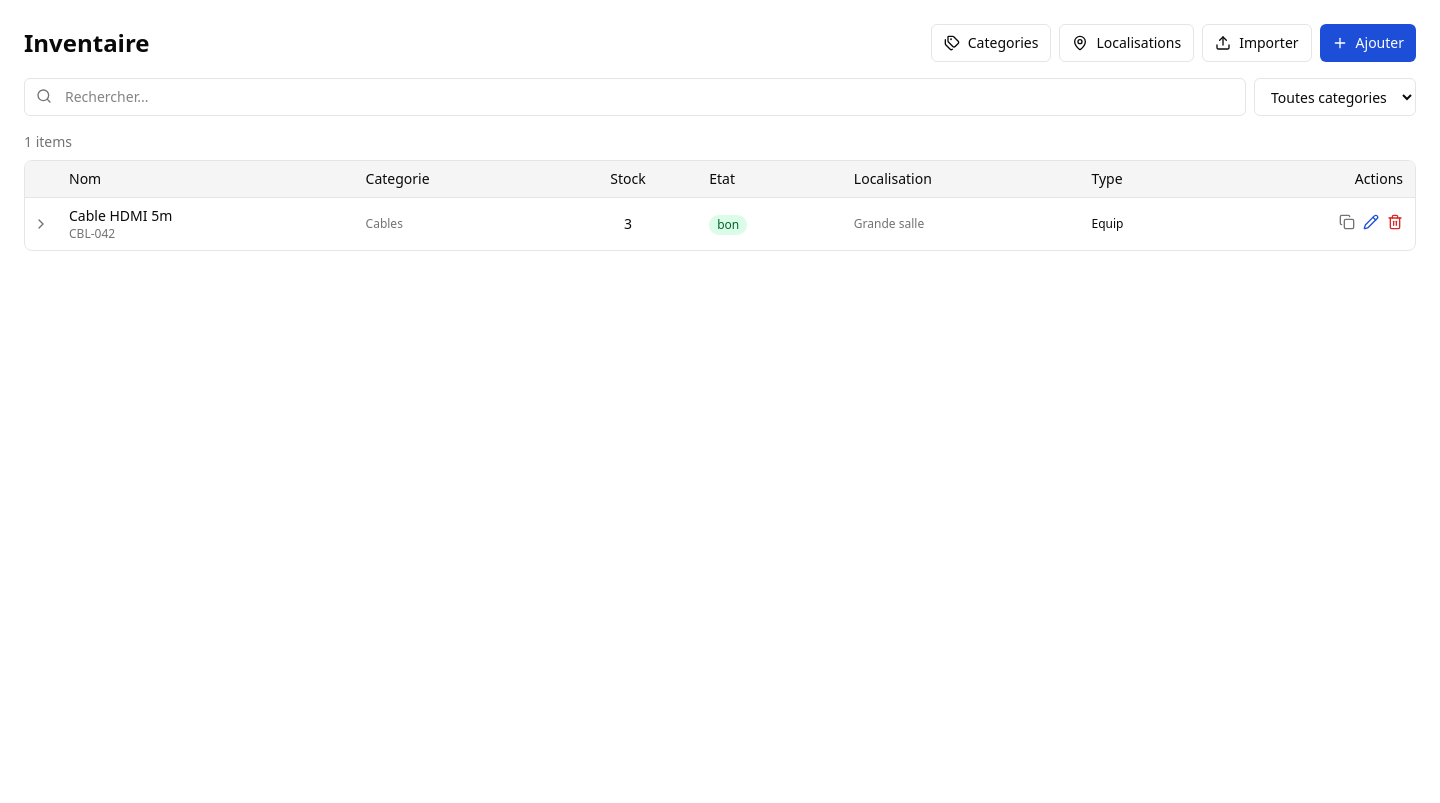
Scenario: duplicating an item › still edits in place when the pencil is used
The width and height of the screenshot is (1440, 803).
Expected: the text "Cable HDMI 5m" is shown, [69,206,172,225]
What coordinates should you click on to do the following:
click the button named "Modifier Cable HDMI 5m"
I would click on:
 (1371, 222)
Its box is [1363,214,1379,230].
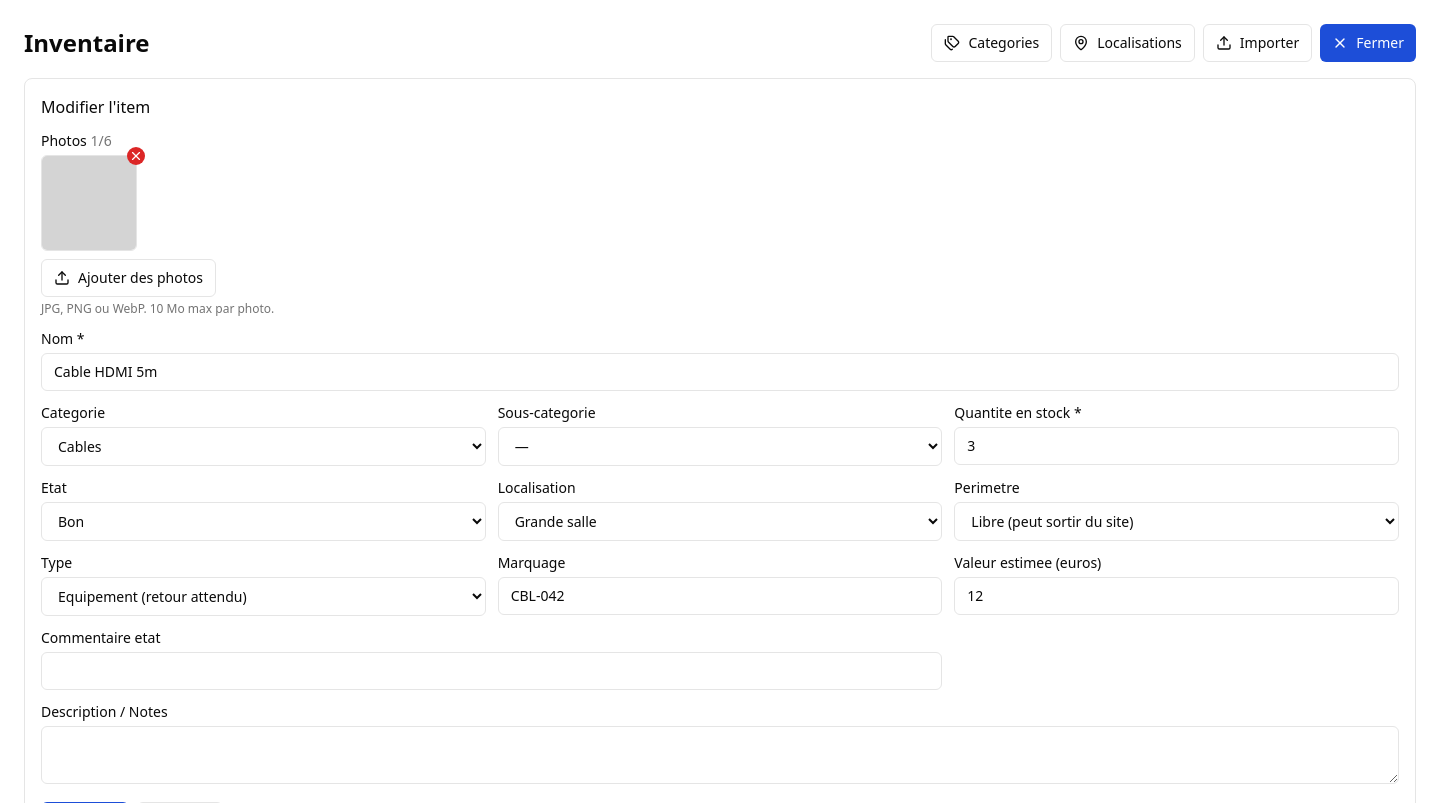
Result: the heading "Modifier l'item" is shown at [41,96,150,118]
